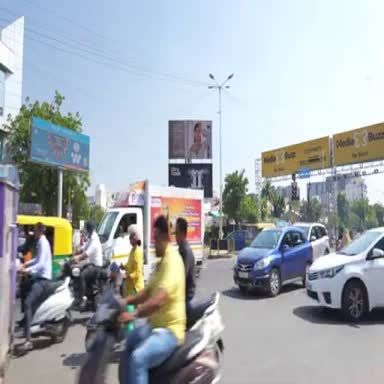Car: (306, 227, 383, 321), (234, 226, 312, 296), (295, 222, 330, 260)
